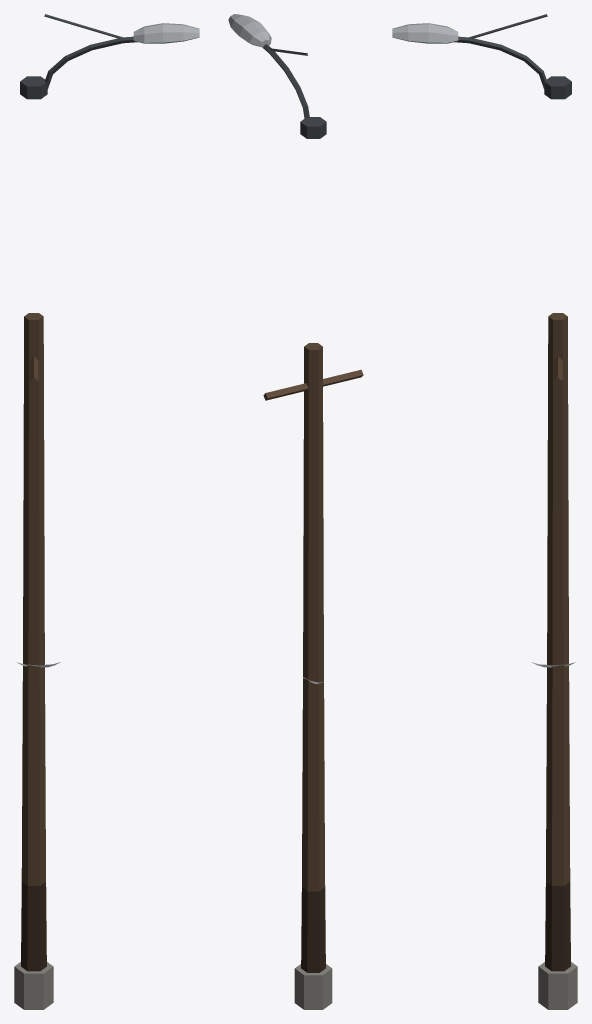
The model's file is farol.glb.
The picture shows the model from 3 angles, left to right: view 1: azimuth 90°, elevation 25°; view 2: azimuth 210°, elevation 25°; view 3: azimuth 270°, elevation 25°; orthographic projection. The views are drawn at different scales.
Visible parts, largest first — view 1: poste, brazo; view 2: poste, brazo; view 3: poste, brazo.
Part boxes in pixels (x1,y1,x2,y2): poste: (14, 313, 53, 1009); brazo: (20, 14, 199, 99); poste: (263, 343, 363, 1009); brazo: (228, 14, 326, 138); poste: (538, 313, 577, 1009); brazo: (392, 14, 571, 99).
Bounding box in the file's own units: 1.3 × 12.25 × 2.08.
